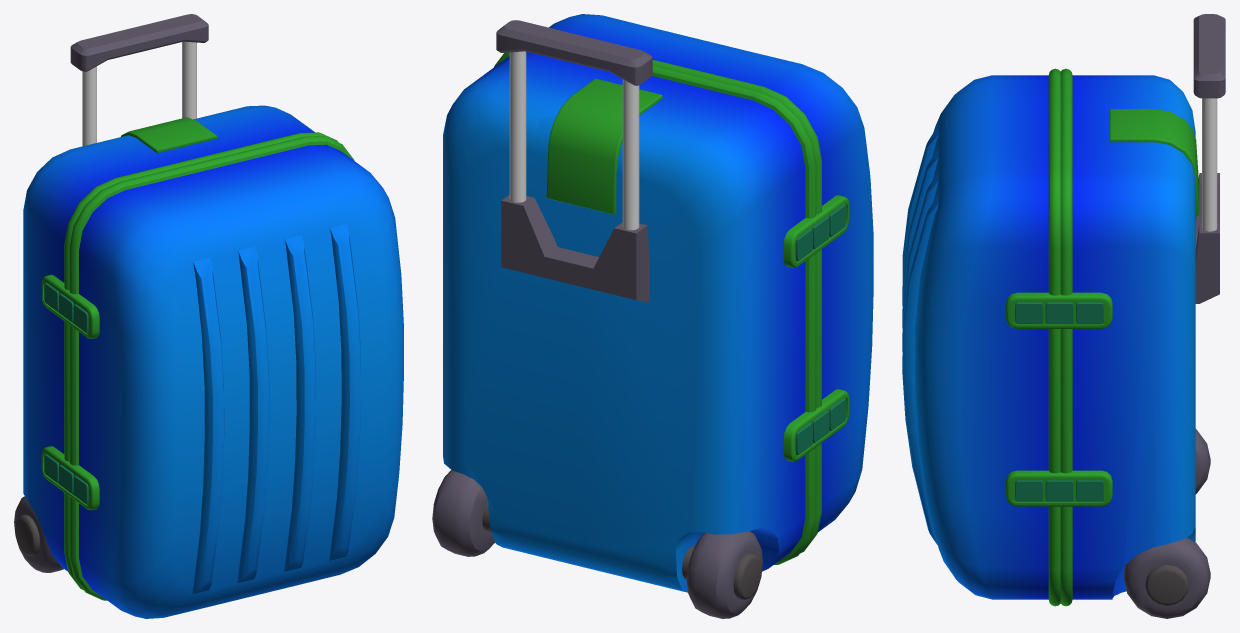
Rendered from Baggage_Blue.fbx.
3 renders of one model, left to right at view 1: azimuth 30°, elevation 25°; view 2: azimuth 150°, elevation 25°; view 3: azimuth 270°, elevation 25°, orthographic. The views are drawn at different scales.
Visible parts, largest first — view 1: Baggage_Blue; view 2: Baggage_Blue; view 3: Baggage_Blue.
Boxes of the visible parts, left/top/right/bottom form: Baggage_Blue: left=14, top=14, right=403, bottom=618; Baggage_Blue: left=432, top=14, right=873, bottom=618; Baggage_Blue: left=902, top=14, right=1225, bottom=618.
Bounding box in the file's own units: 66.35 × 107 × 61.04.
